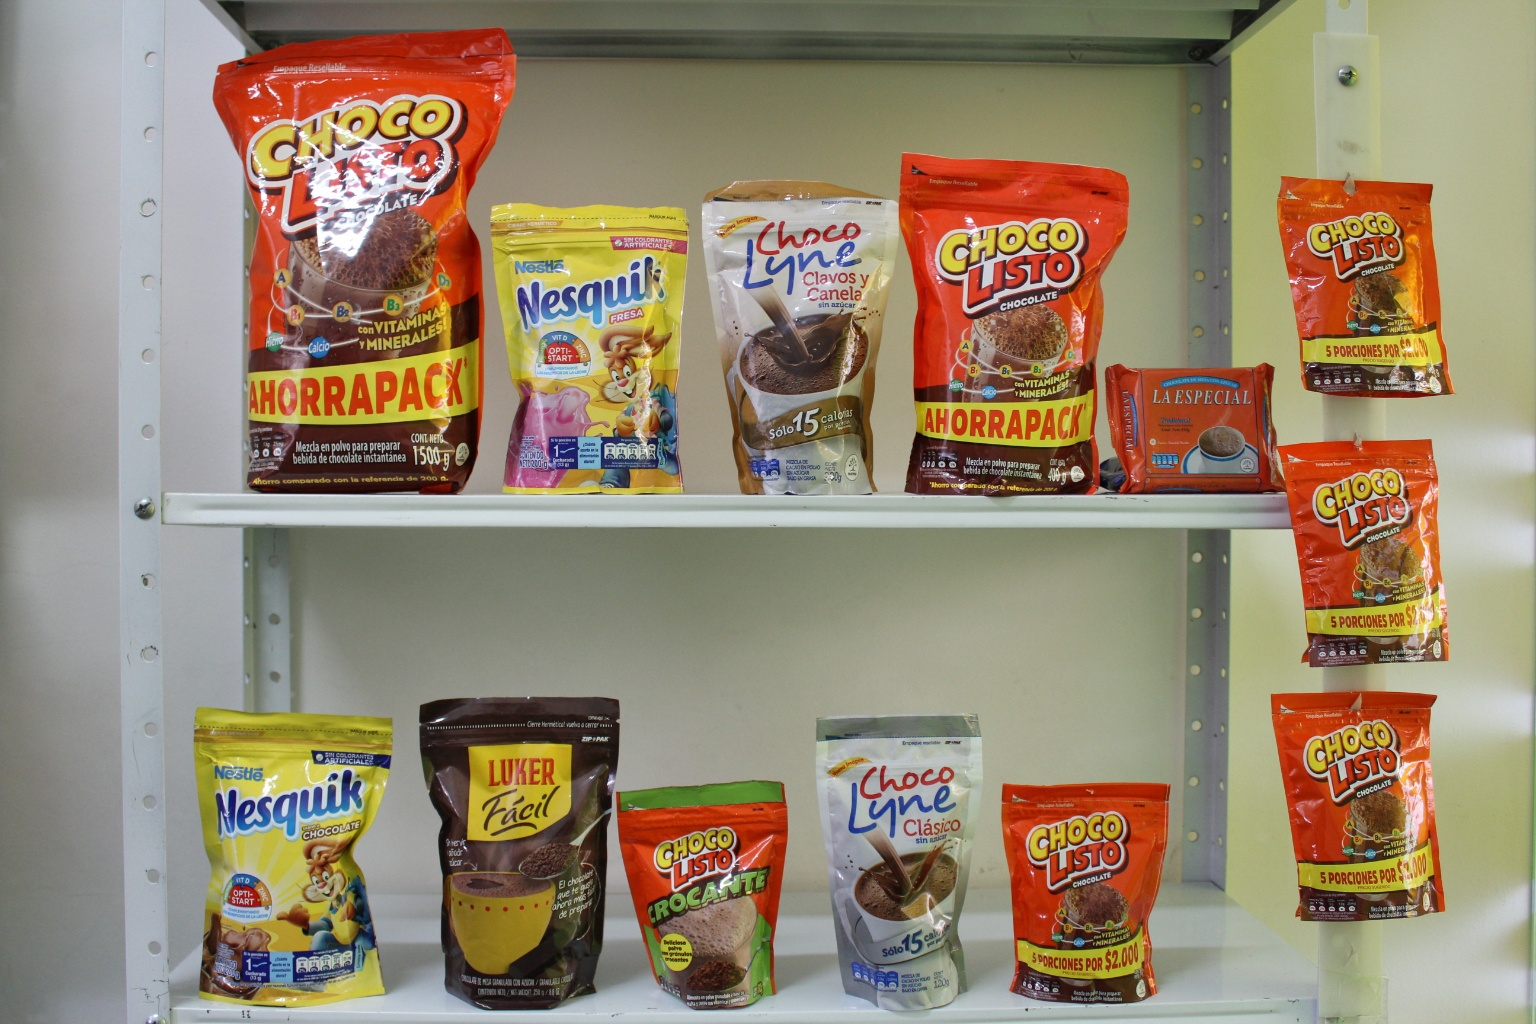COL0170102DYP10000: (602, 771, 805, 1003)
COL0170103DYP1,500: (191, 34, 511, 507)
COL0170103DYP10000: (997, 773, 1179, 1015)
COL0170103DYP40000: (901, 147, 1115, 495)
COL0170303DYP20000: (192, 706, 405, 1003)
COL0170305DYP20000: (469, 184, 703, 491)
